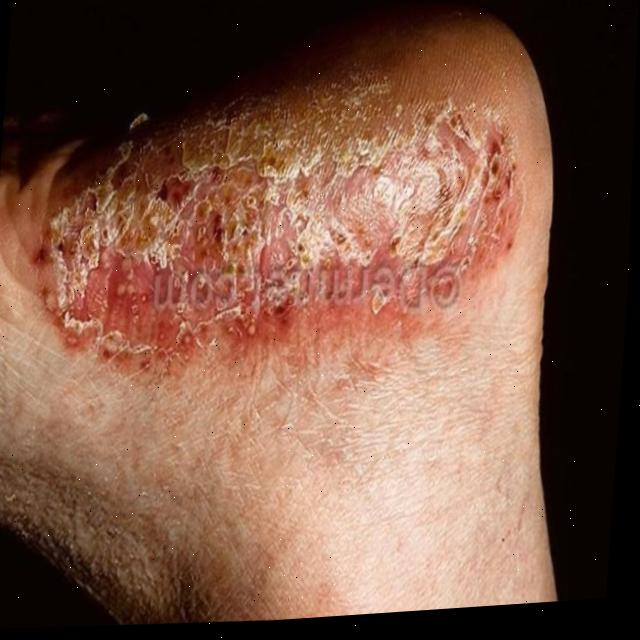Eczema: (53, 82, 514, 384)
